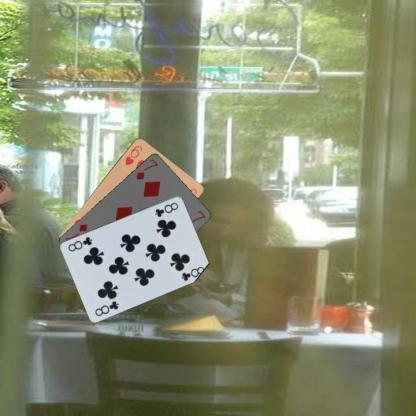6h: (122, 142, 144, 166)
7d: (134, 156, 160, 181)
8c: (92, 298, 120, 317), (152, 200, 180, 218)
